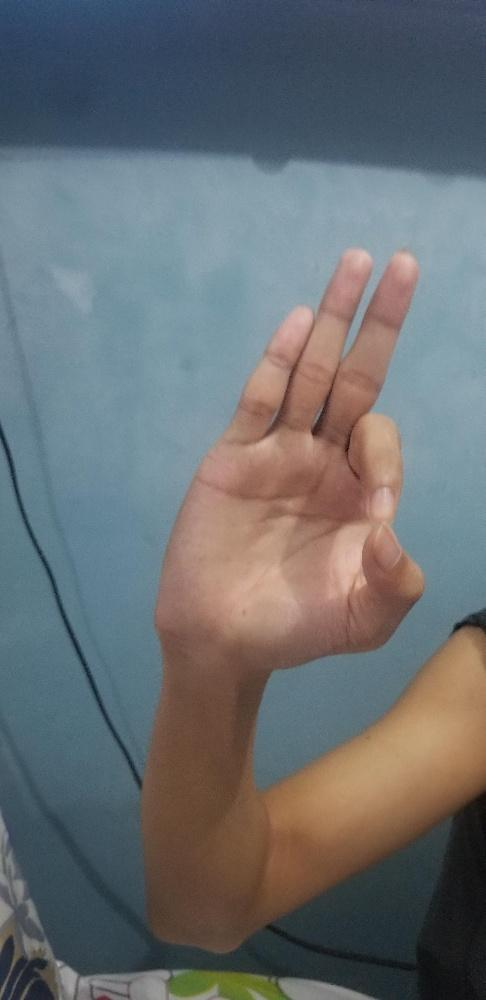f: (146, 242, 427, 678)
